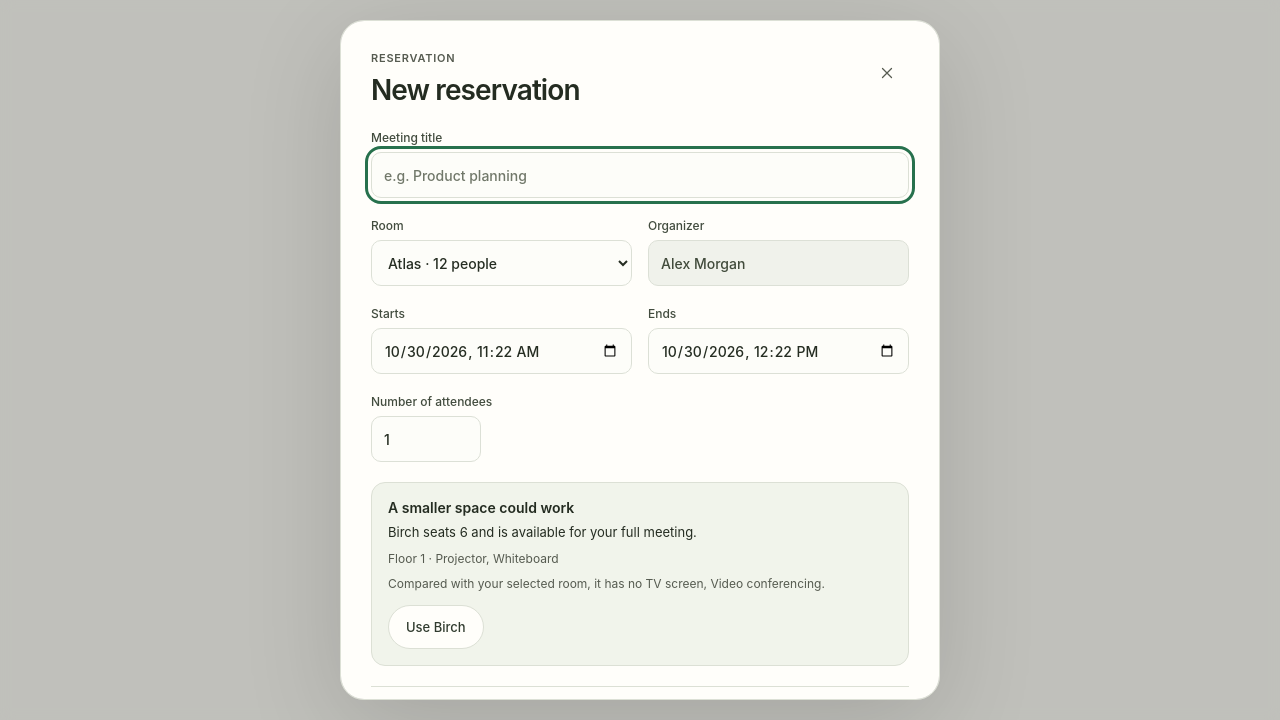
Test: reservation form › hides an obsolete suggestion immediately when the attendee count or interval changes
Check: the button "Use Birch" is shown, box [388,605,484,649]
Step 1. Replace the text in the number field labelled "Number of attendees" with "7" → (426, 439), box [371,416,481,462]
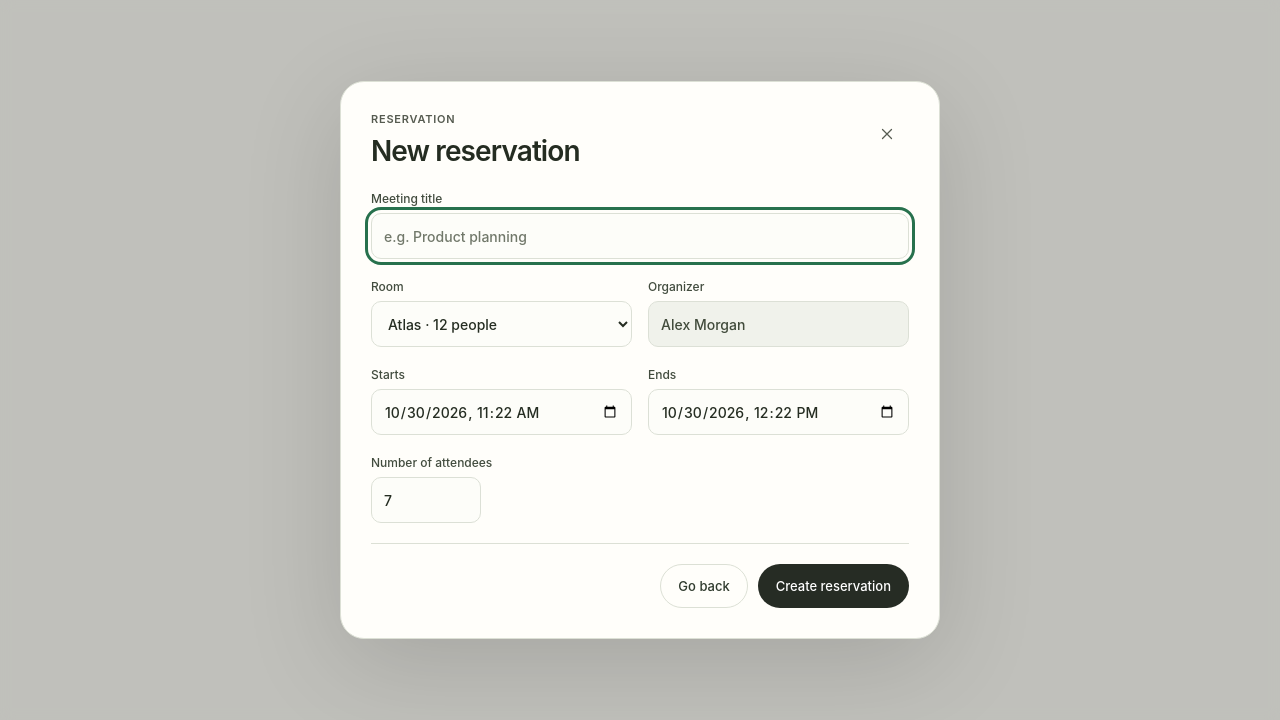
Check: the button "Use Birch" is gone
Step 2. Replace the text in the number field labelled "Number of attendees" with "6" → (426, 500), box [371,477,481,523]
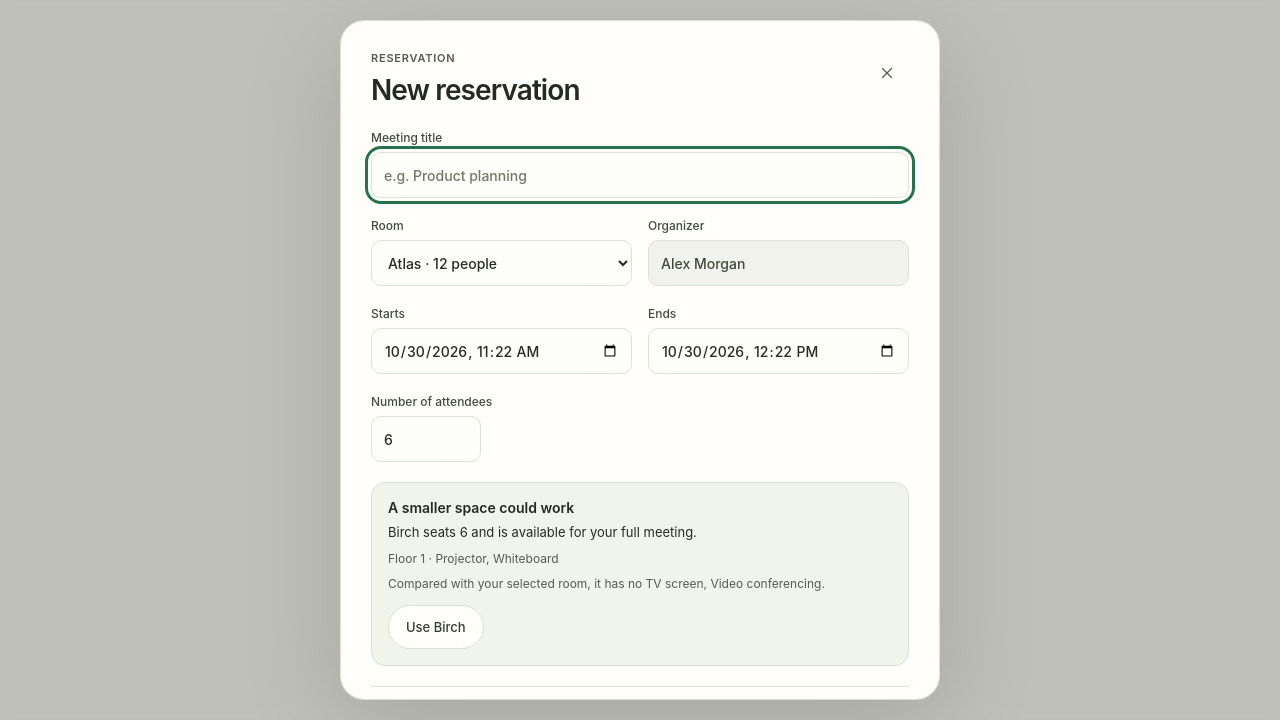
Check: the button "Use Birch" is shown, box [388,605,484,649]
Step 3. Clear the field labelled "Ends" → (778, 351), box [648,328,909,374]
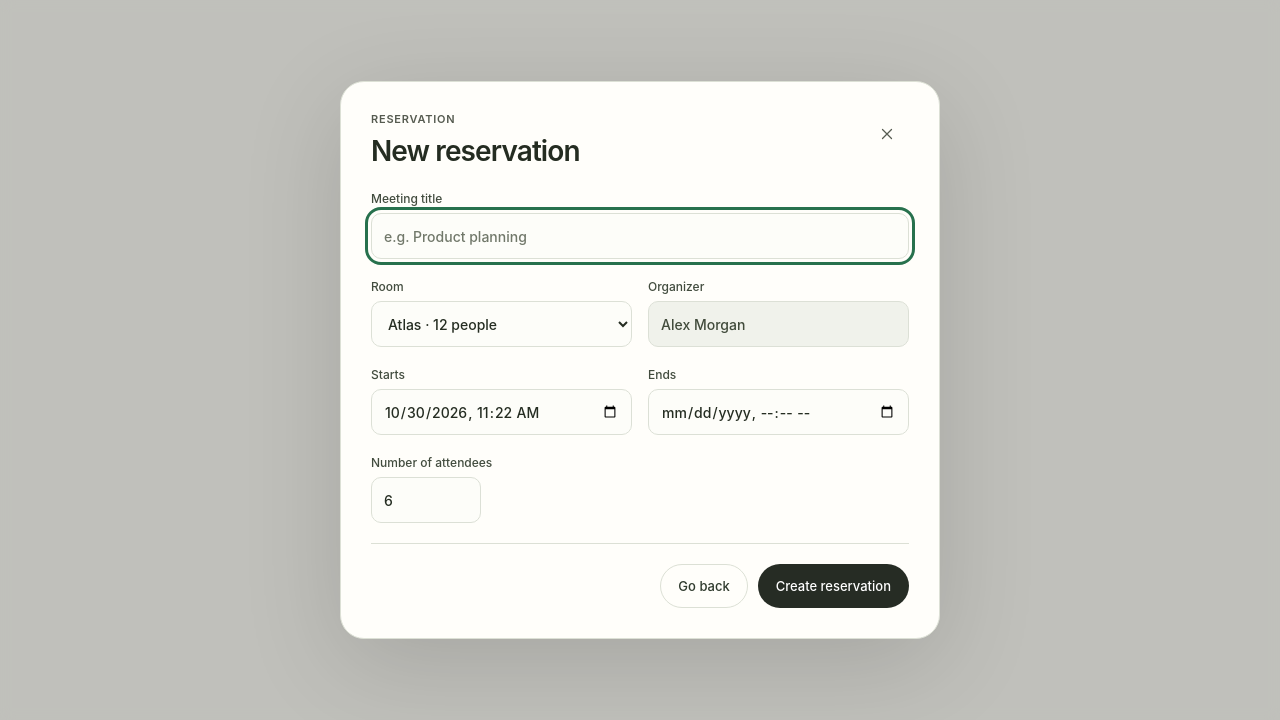
Check: the button "Use Birch" is gone
